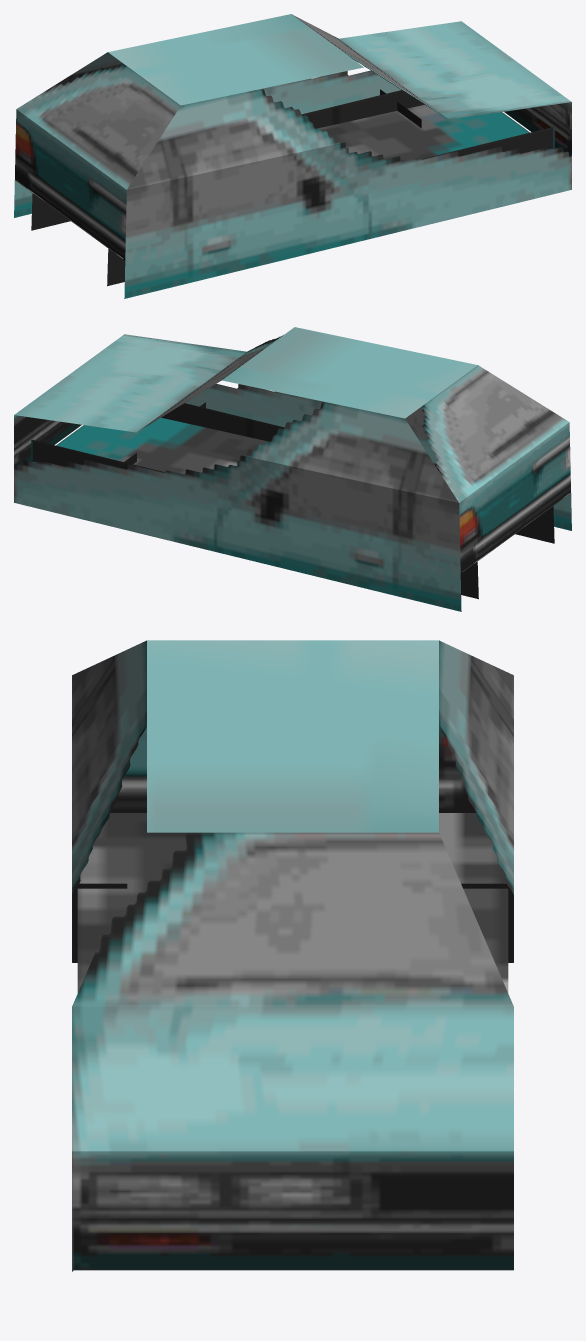
The model's file is _wagon.obj.
3 renders of one model, top to bottom at view 1: azimuth 30°, elevation 25°; view 2: azimuth 150°, elevation 25°; view 3: azimuth 270°, elevation 25°, orthographic. The views are drawn at different scales.
Bounding box in the file's own units: 566 × 195 × 242.
1 material, 1 textured.
